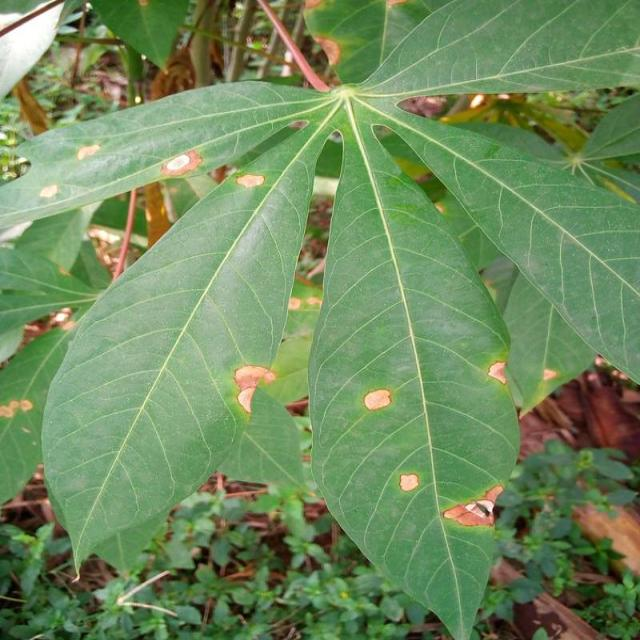cassava leaf: (2, 1, 638, 636), (38, 95, 336, 578), (306, 97, 522, 638)
